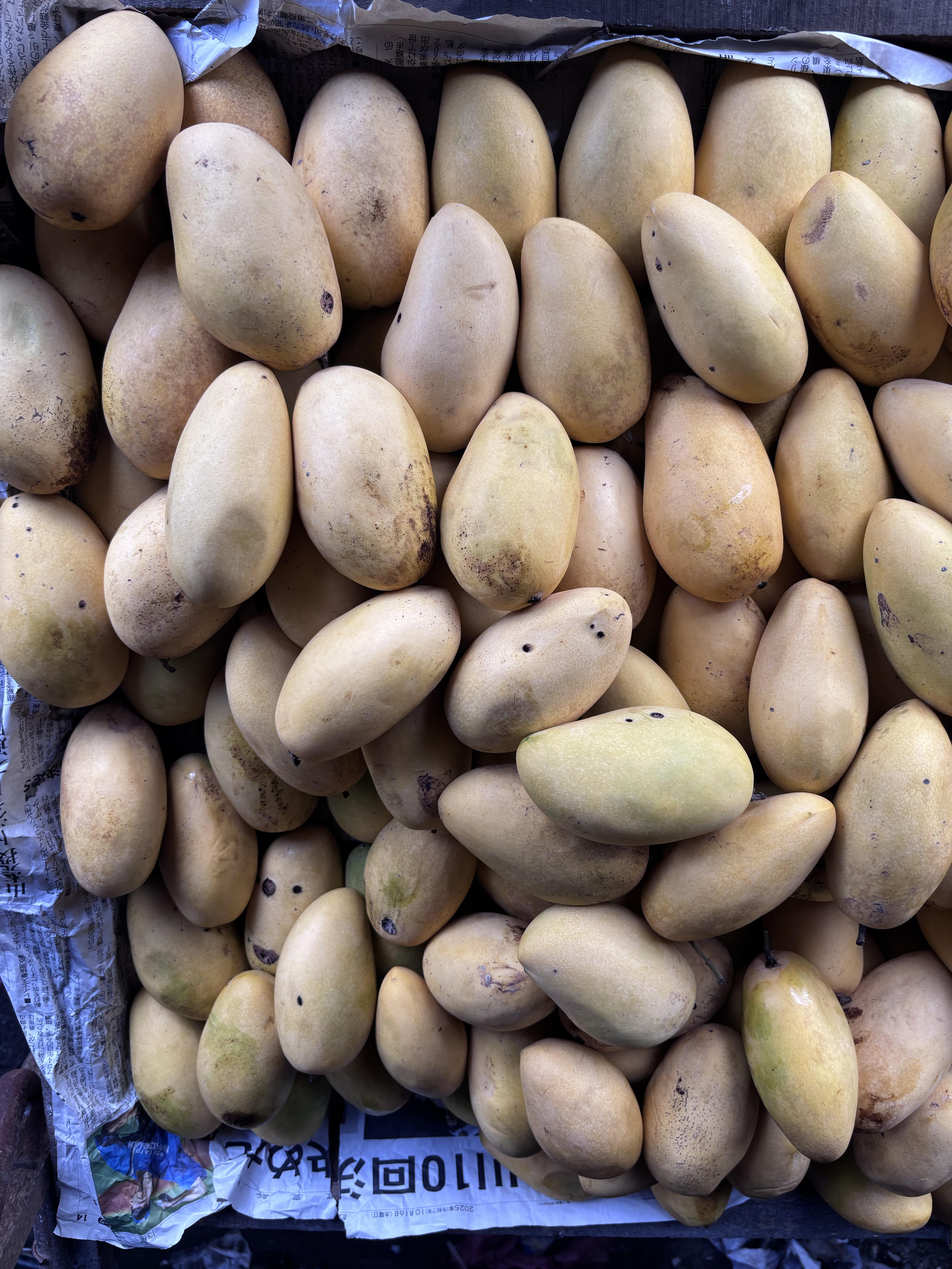mango: (166, 122, 342, 371), (5, 10, 183, 232), (641, 192, 808, 403), (518, 702, 754, 847), (275, 585, 460, 767), (293, 366, 436, 591), (166, 361, 294, 608), (643, 376, 782, 602), (827, 699, 952, 945), (440, 392, 580, 610), (742, 930, 858, 1162), (518, 904, 696, 1048), (749, 578, 868, 793), (60, 702, 166, 897), (274, 888, 377, 1084), (520, 1038, 642, 1179)
occluded: (786, 171, 946, 387), (381, 203, 519, 452), (102, 241, 246, 479), (559, 44, 694, 286), (292, 71, 429, 309), (444, 588, 632, 752), (517, 217, 651, 444), (438, 764, 648, 906), (641, 792, 836, 942), (694, 64, 831, 266), (0, 493, 128, 707), (431, 65, 557, 271), (226, 614, 364, 798), (104, 485, 239, 673), (775, 369, 892, 581), (0, 265, 100, 495), (837, 951, 952, 1134), (35, 191, 165, 345), (643, 1024, 759, 1196), (864, 499, 952, 714), (832, 80, 946, 245), (204, 669, 318, 833), (127, 869, 249, 1022), (557, 444, 657, 627), (658, 586, 766, 755), (159, 754, 258, 927), (363, 682, 472, 833), (423, 913, 555, 1032), (196, 970, 294, 1128), (265, 509, 376, 648), (244, 826, 343, 975), (364, 819, 477, 946), (130, 989, 219, 1139), (854, 1067, 952, 1197), (182, 49, 292, 162), (376, 967, 468, 1099), (121, 621, 235, 726), (873, 379, 952, 522), (72, 422, 163, 542), (809, 1147, 932, 1234), (844, 583, 914, 729), (763, 897, 864, 997), (468, 1025, 543, 1157), (423, 548, 514, 651), (480, 1130, 595, 1201), (728, 1103, 810, 1199), (581, 646, 688, 717), (328, 1029, 410, 1116), (674, 938, 734, 1037), (252, 1072, 331, 1147), (752, 538, 809, 619), (327, 771, 392, 842), (476, 862, 552, 920), (651, 1179, 732, 1228), (741, 384, 799, 451), (930, 186, 952, 326), (579, 1159, 658, 1197), (372, 930, 425, 985), (275, 361, 325, 416), (559, 1008, 620, 1052), (603, 1044, 667, 1084), (442, 1078, 478, 1127), (345, 842, 372, 898)
